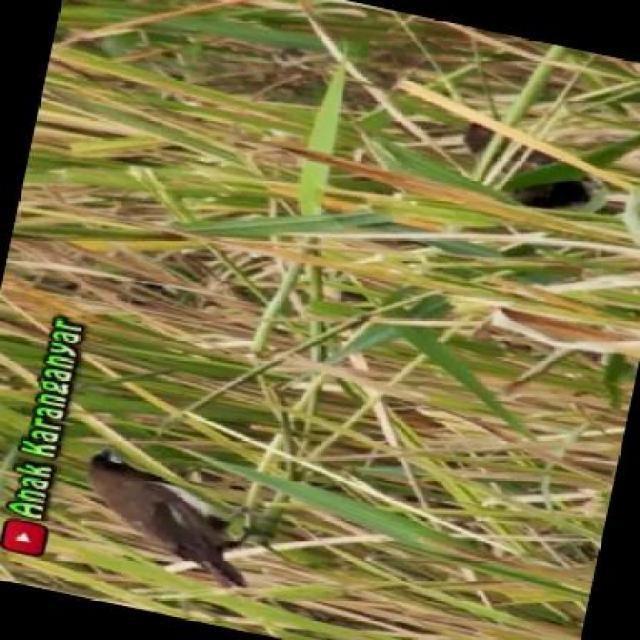Bird: (81, 432, 260, 596), (461, 102, 610, 216)
